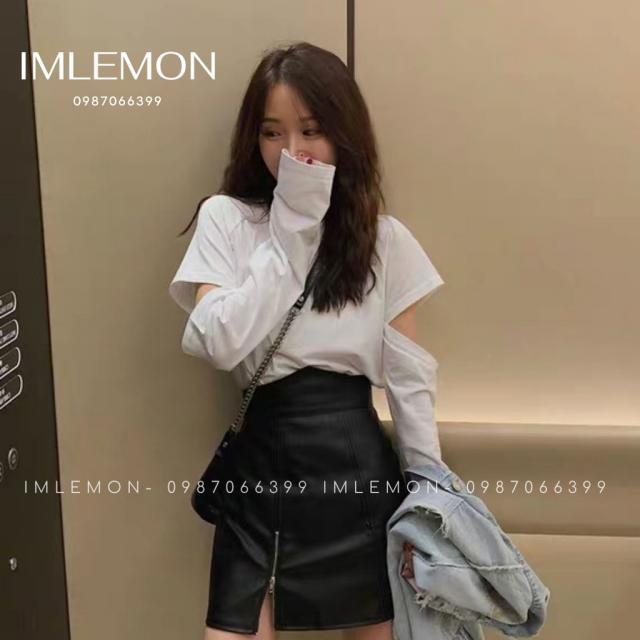shirt: (163, 147, 451, 495)
